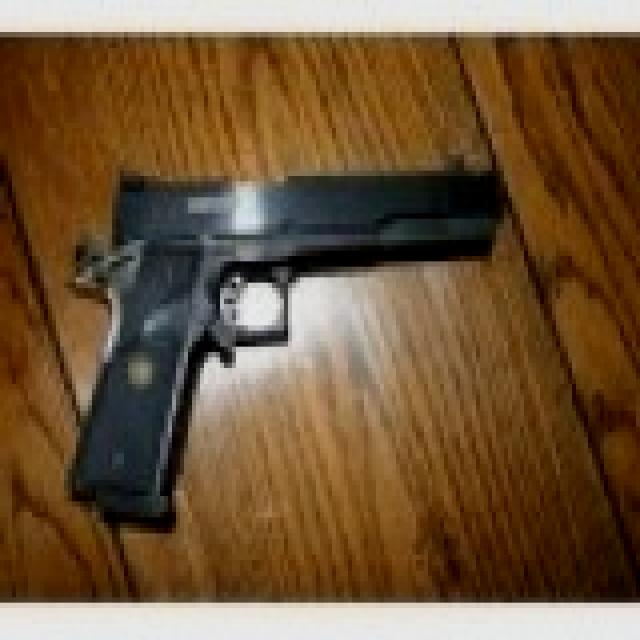pistol: (68, 150, 512, 534)
